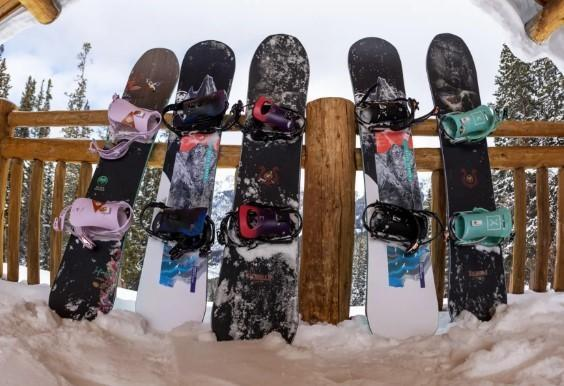Snowboard: (29, 30, 187, 328), (126, 29, 246, 340), (204, 23, 318, 348), (344, 26, 452, 340), (421, 23, 519, 330)
